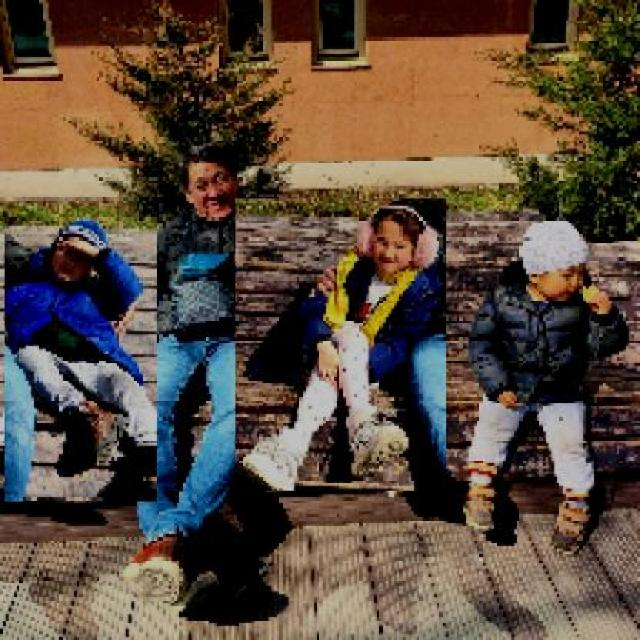child: (234, 198, 446, 492), (458, 206, 633, 554), (3, 217, 157, 503)
